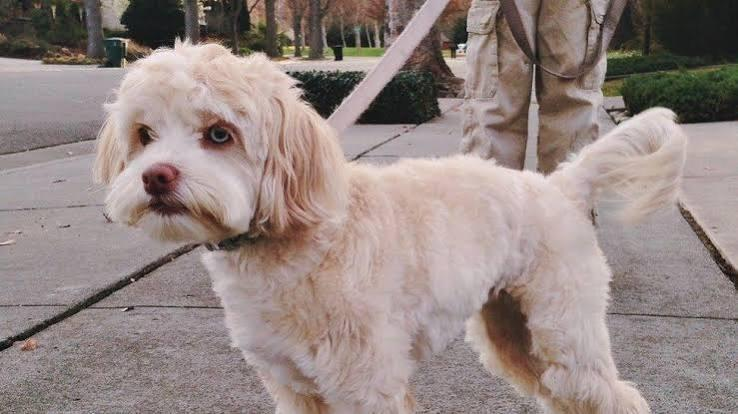adult_dog: (95, 34, 688, 414)
non-dog: (456, 1, 622, 176)
